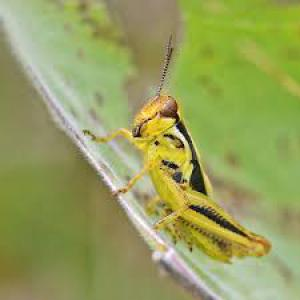locust: (129, 60, 249, 260)
